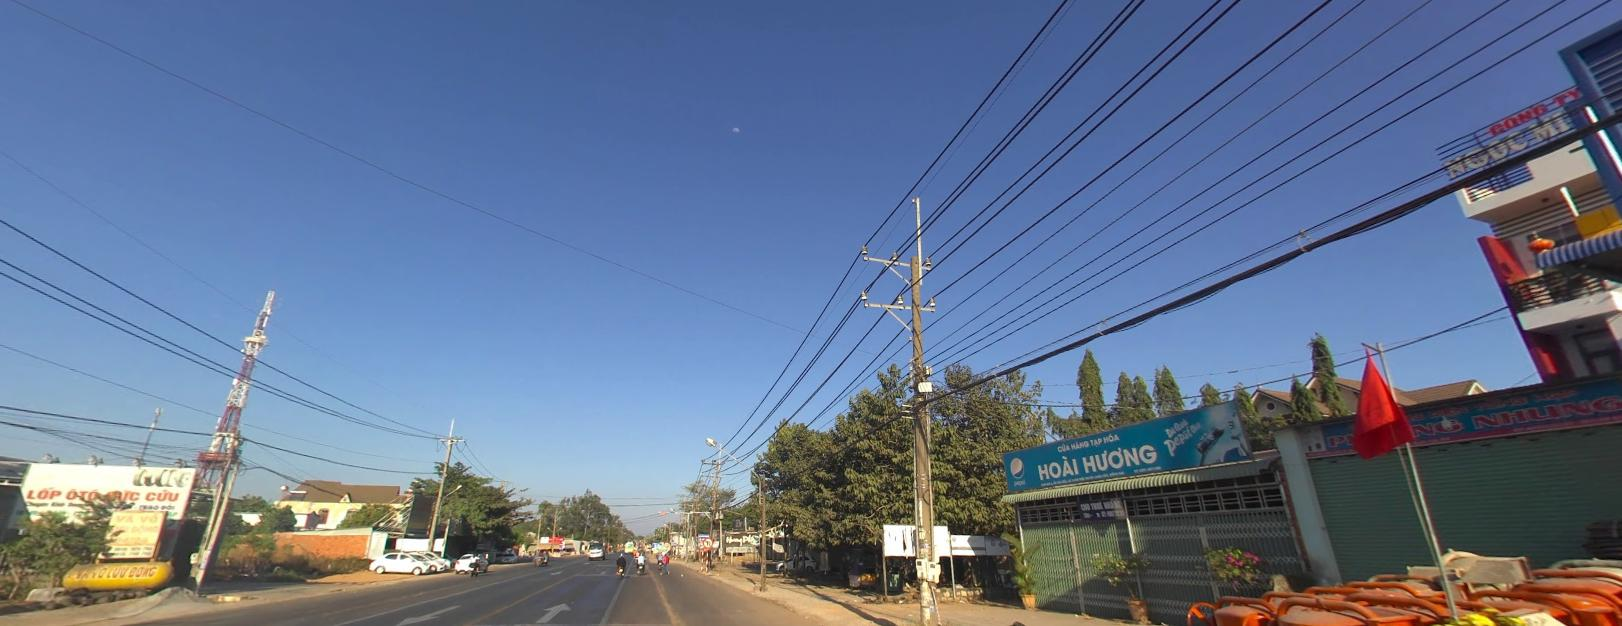Cam re: (702, 536, 713, 546), (702, 536, 712, 547)
